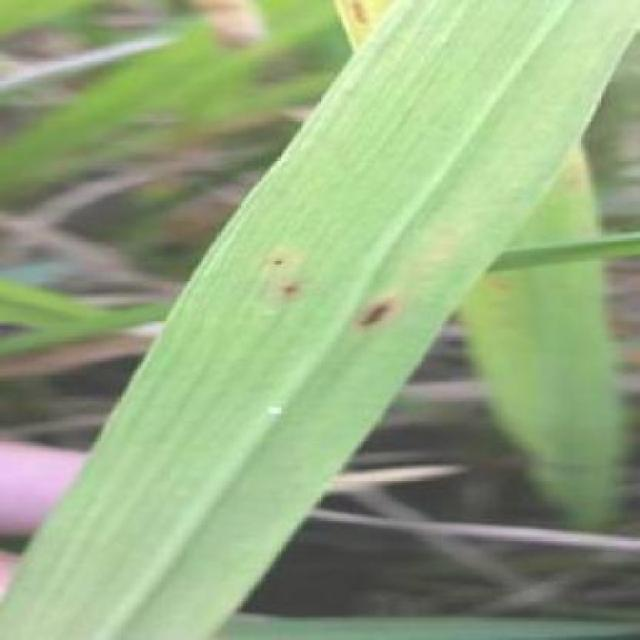Leaf_Blast: (342, 285, 408, 338), (333, 0, 384, 35), (268, 270, 312, 302), (262, 249, 288, 271)
